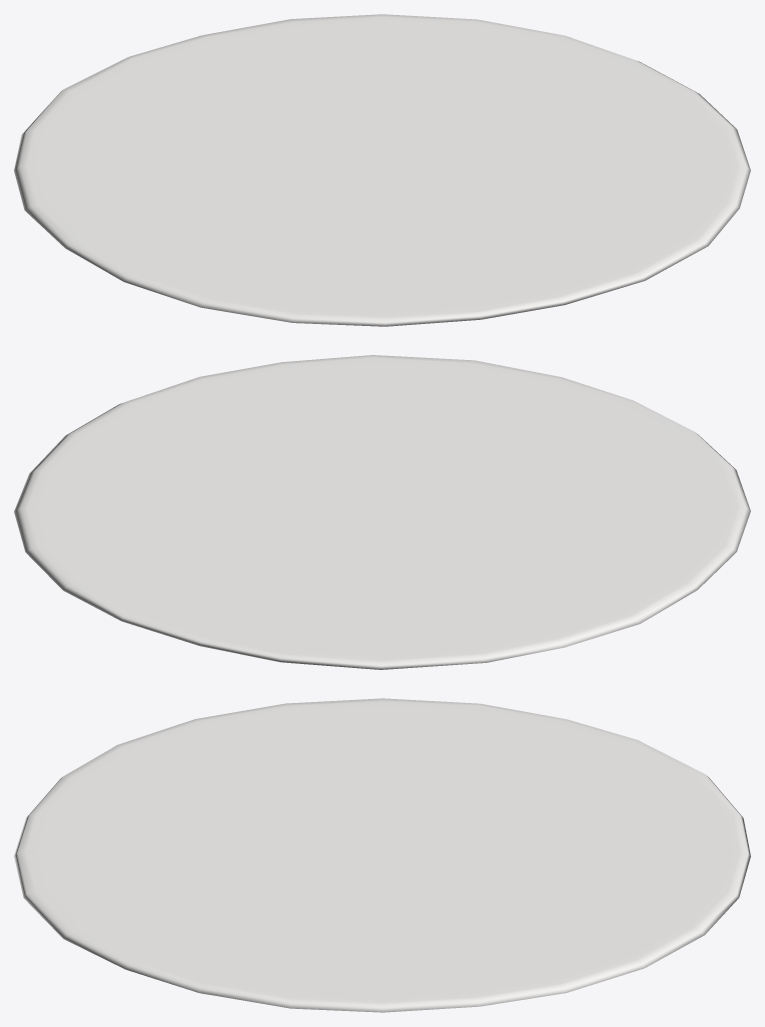
The model's file is P_RugLargeCircle.glb.
3 renders of one model, top to bottom at view 1: azimuth 30°, elevation 25°; view 2: azimuth 150°, elevation 25°; view 3: azimuth 270°, elevation 25°, orthographic.
Visible parts, largest first — view 1: P_RugLargeCircle; view 2: P_RugLargeCircle; view 3: P_RugLargeCircle.
Boxes of the visible parts, x1,y1,x2,y2 form: P_RugLargeCircle: (14,14,750,326); P_RugLargeCircle: (14,355,750,669); P_RugLargeCircle: (14,698,750,1012).
Bounding box in the file's own units: 4.01 × 0.0416 × 4.
1 material, 1 textured.
